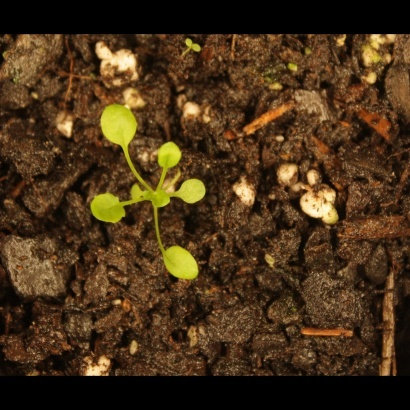leaf: (98, 101, 144, 153), (85, 191, 133, 229), (157, 246, 204, 282), (177, 177, 210, 209), (155, 140, 187, 172), (181, 36, 204, 59), (151, 188, 174, 211), (128, 183, 151, 206)
